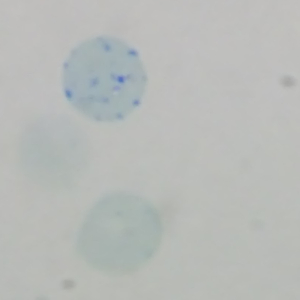erythrocyte: (73, 190, 164, 278)
punctate reticulocyte: (59, 36, 148, 125)
